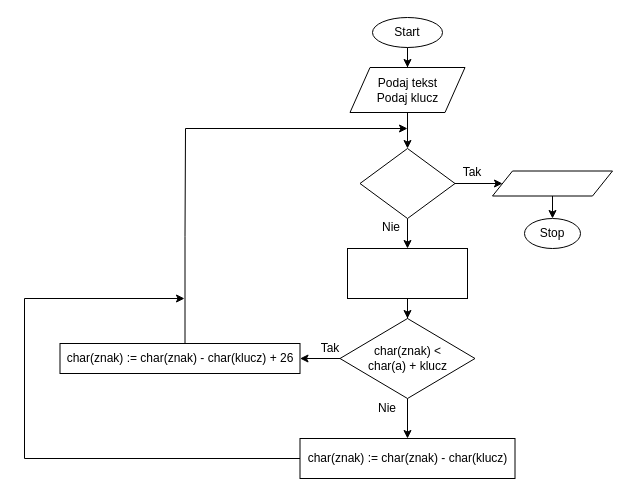
Image size: 630x496. Some labels were removed from this diagram. Here are the shapes that lost their labels. From the top down, the centre of each, then its label:
At (407,183): "Tekst się skończył".
At (552,183): "Wypisz tekst".
At (407,273): "Przejdź do kolejnego znaku tekstu".
